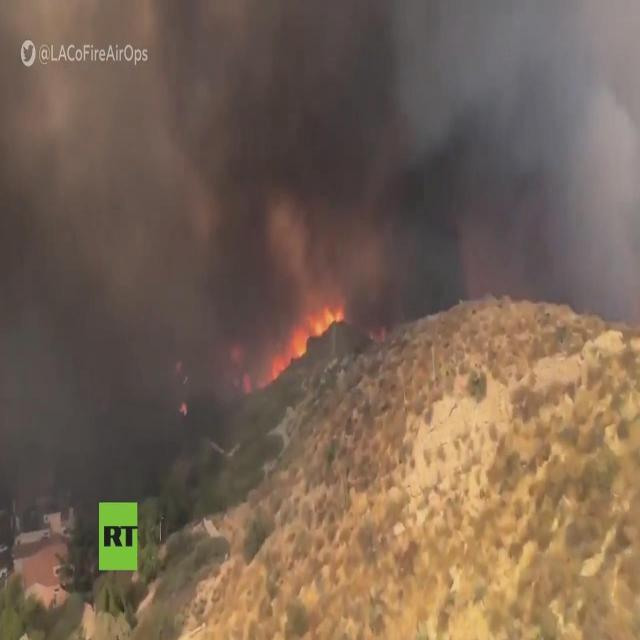Fire: (242, 304, 344, 396)
Smoke: (0, 1, 640, 522)
